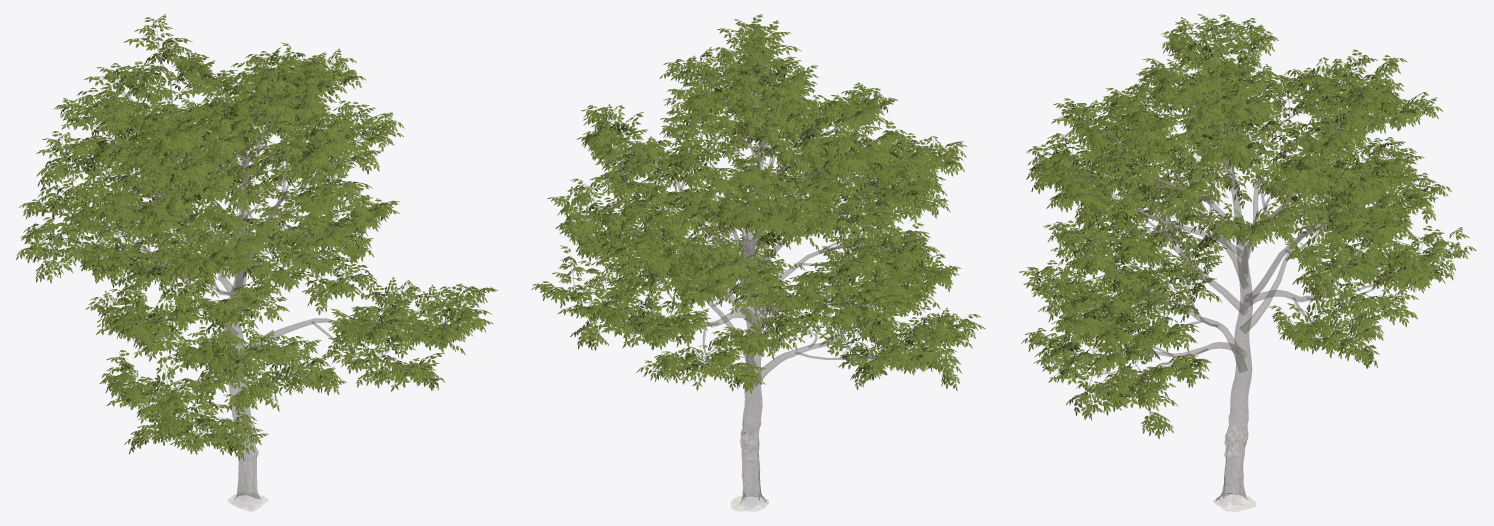
Rendered from FraxinusOrnus.glb.
The picture shows the model from 3 angles, left to right: view 1: azimuth 30°, elevation 25°; view 2: azimuth 150°, elevation 25°; view 3: azimuth 270°, elevation 25°; orthographic projection. The views are drawn at different scales.
Visible parts, largest first — view 1: AM171_050; view 2: AM171_050; view 3: AM171_050.
Boxes of the visible parts, <box> form: AM171_050: <box>16,14,497,511</box>; AM171_050: <box>531,14,985,511</box>; AM171_050: <box>1019,14,1476,511</box>.
Bounding box in the file's own units: 8 × 9 × 8.
Materials: 2 (2 with a texture image).
